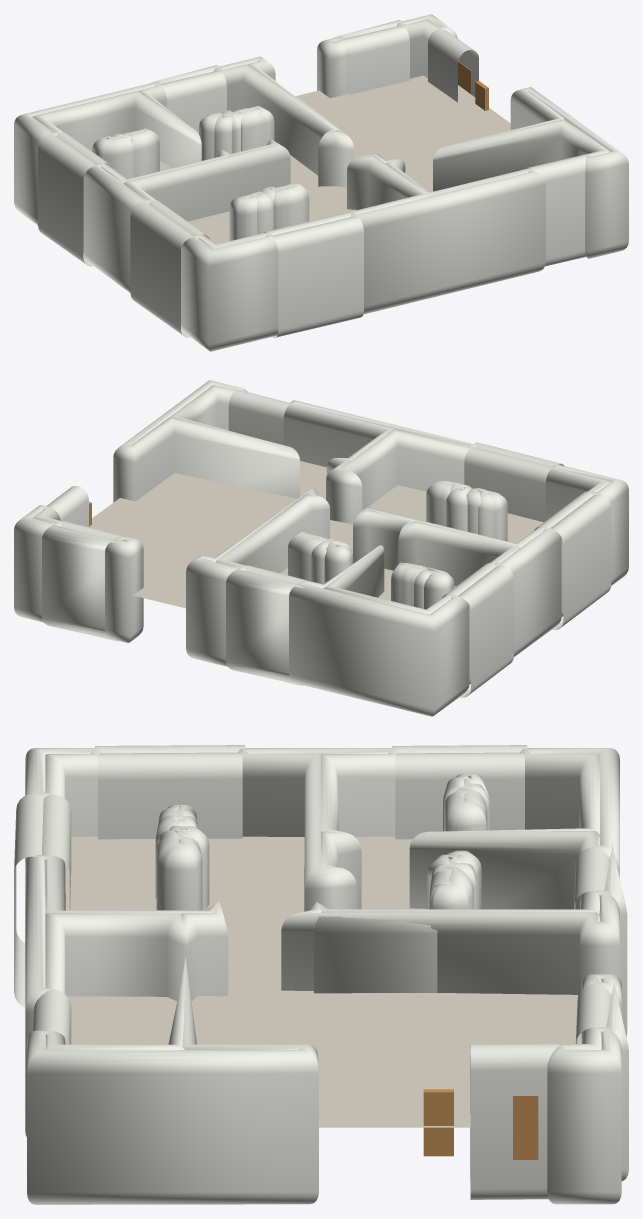
The picture shows the model from 3 angles, top to bottom: view 1: azimuth 30°, elevation 25°; view 2: azimuth 150°, elevation 25°; view 3: azimuth 270°, elevation 25°; orthographic projection. The views are drawn at different scales.
Parts seen in each view (by area): view 1: wall_7, Floor, wall_10, wall_11, wall_3, wall_23, wall_0, wall_22, wall_9, wall_18, wall_1, wall_21 (+14 smaller); view 2: wall_23, Floor, wall_10, wall_7, wall_11, wall_22, wall_26, wall_27, wall_9, wall_18, wall_2, wall_3 (+15 smaller); view 3: Floor, wall_10, wall_22, wall_7, wall_23, wall_11, wall_24, wall_8, wall_19, wall_17, wall_3, wall_4 (+17 smaller).
Boxes of the visible parts, x1,y1,x2,y2 form: wall_7: (347,153,545,314); Floor: (160,75,550,244); wall_10: (433,87,628,258); wall_11: (83,139,290,292); wall_3: (181,232,278,351); wall_23: (14,81,201,225); wall_0: (272,216,363,337); wall_22: (213,56,354,187); wall_9: (130,201,193,337); wall_18: (38,134,95,266); wall_1: (526,154,586,266); wall_21: (343,25,409,94); wall_23: (289,545,469,716); Floor: (89,461,543,608); wall_10: (113,380,299,502); wall_7: (283,400,475,524); wall_11: (353,507,561,656); wall_22: (186,487,329,666); wall_26: (226,569,303,685); wall_27: (42,525,119,641); wall_9: (550,493,611,629); wall_18: (458,565,513,697); wall_2: (464,447,552,522); wall_3: (545,465,628,585); Floor: (65,836,581,1127); wall_10: (27,956,318,1204); wall_22: (281,890,619,994); wall_7: (25,855,228,1136); wall_23: (409,748,619,909); wall_11: (238,748,399,911); wall_24: (547,1027,621,1204); wall_8: (97,752,242,839); wall_19: (470,1043,559,1199); wall_17: (395,752,524,839); wall_3: (25,748,101,865); wall_4: (156,830,202,910).
Bounding box in the file's own units: 34.53 × 7.73 × 28.2.
